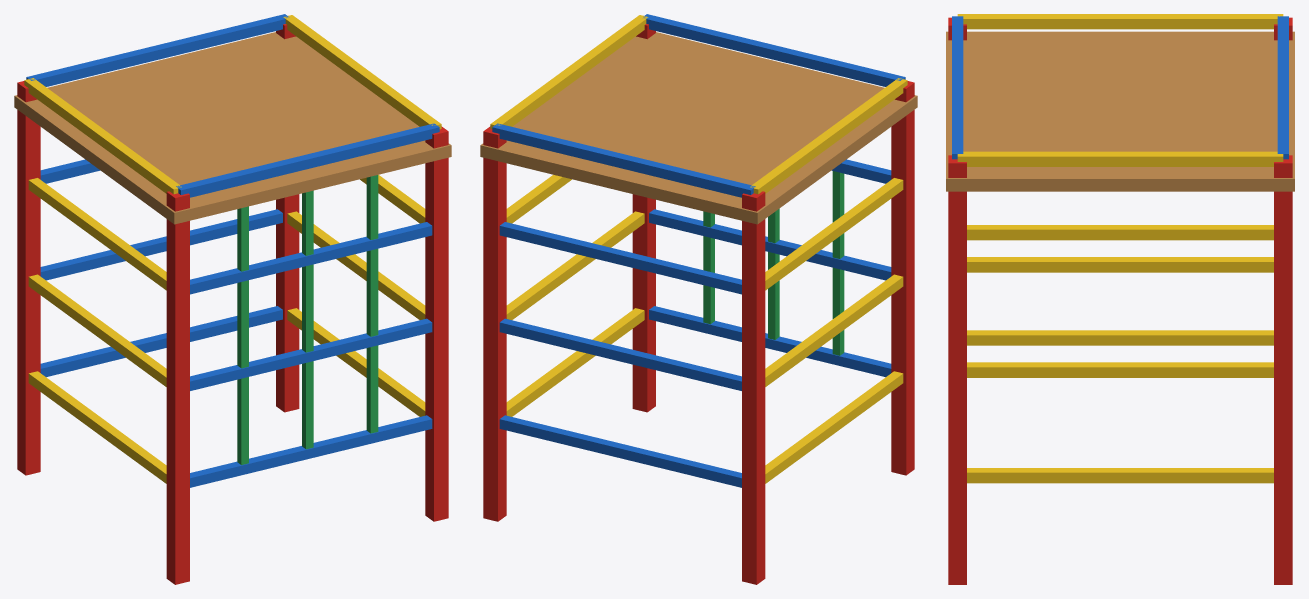
File: climbing_frame.glb
The picture shows the model from 3 angles, left to right: view 1: azimuth 30°, elevation 25°; view 2: azimuth 150°, elevation 25°; view 3: azimuth 270°, elevation 25°; orthographic projection. The views are drawn at different scales.
Visible parts, largest first — view 1: climbing_frame; view 2: climbing_frame; view 3: climbing_frame.
Boxes of the visible parts, x1,y1,x2,y2 form: climbing_frame: (14, 14, 451, 584); climbing_frame: (480, 14, 917, 584); climbing_frame: (946, 14, 1294, 584).
Size of the model in its own units: 1.5 by 2.03 by 1.5.
